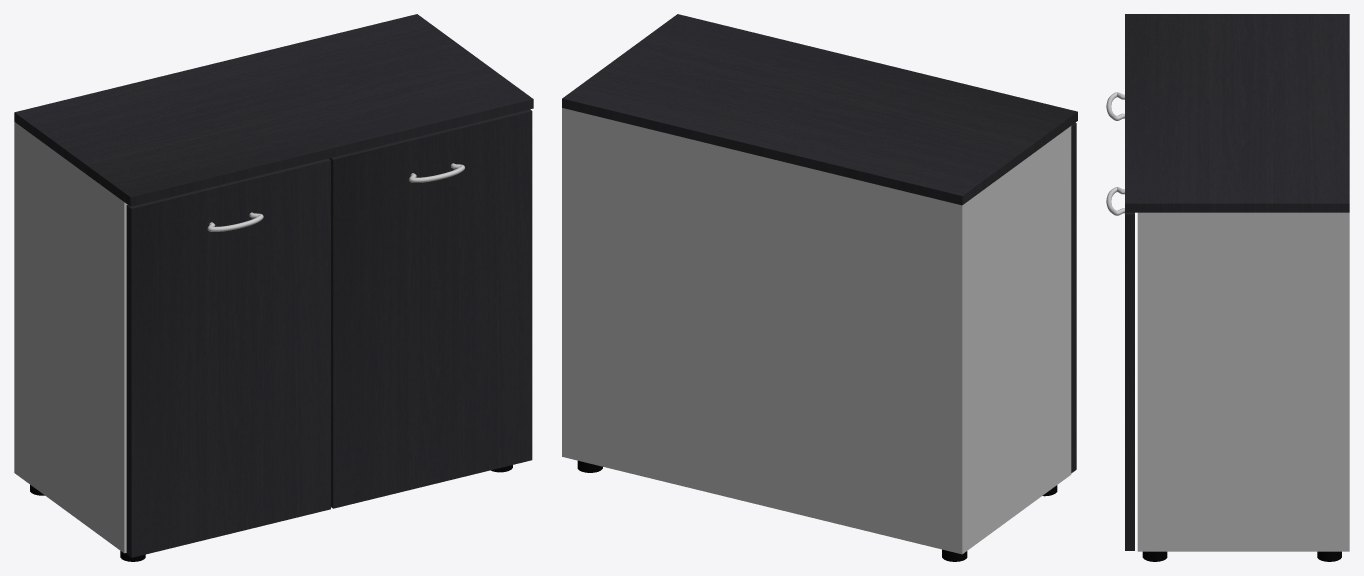
The model's file is sweethome3d-lucapresidente-bookcase-90x80-24.glb.
3 views of the same model, side by side, from view 1: azimuth 30°, elevation 25°; view 2: azimuth 150°, elevation 25°; view 3: azimuth 270°, elevation 25° (orthographic). The views are drawn at different scales.
Visible parts, largest first — view 1: Box48_2, Box49_6, Box50_7, Box51_10; view 2: Box51_10, Box50_7, Box48_2; view 3: Box51_10, Box50_7, Box49_6.
Boxes of the visible parts, x1=… form: Box48_2: x1=126, y1=158, x2=330, y2=557; Box49_6: x1=329, y1=109, x2=532, y2=508; Box50_7: x1=14, y1=14, x2=533, y2=206; Box51_10: x1=14, y1=122, x2=127, y2=553; Box51_10: x1=562, y1=108, x2=1071, y2=554; Box50_7: x1=562, y1=14, x2=1077, y2=205; Box48_2: x1=1071, y1=122, x2=1076, y2=473; Box51_10: x1=1137, y1=212, x2=1349, y2=551; Box50_7: x1=1125, y1=14, x2=1349, y2=212; Box49_6: x1=1125, y1=212, x2=1134, y2=550.
Bounding box in the file's own units: 90 × 80 × 48.75.
3 materials, 1 textured.
